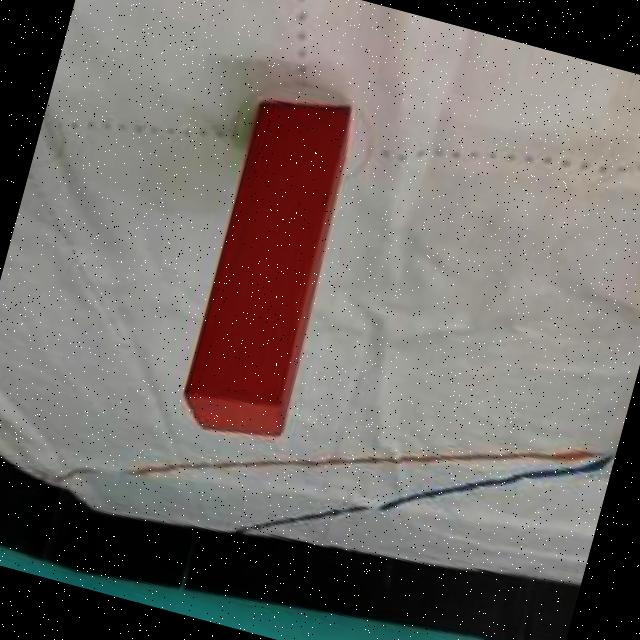redbox: (176, 84, 364, 449)
